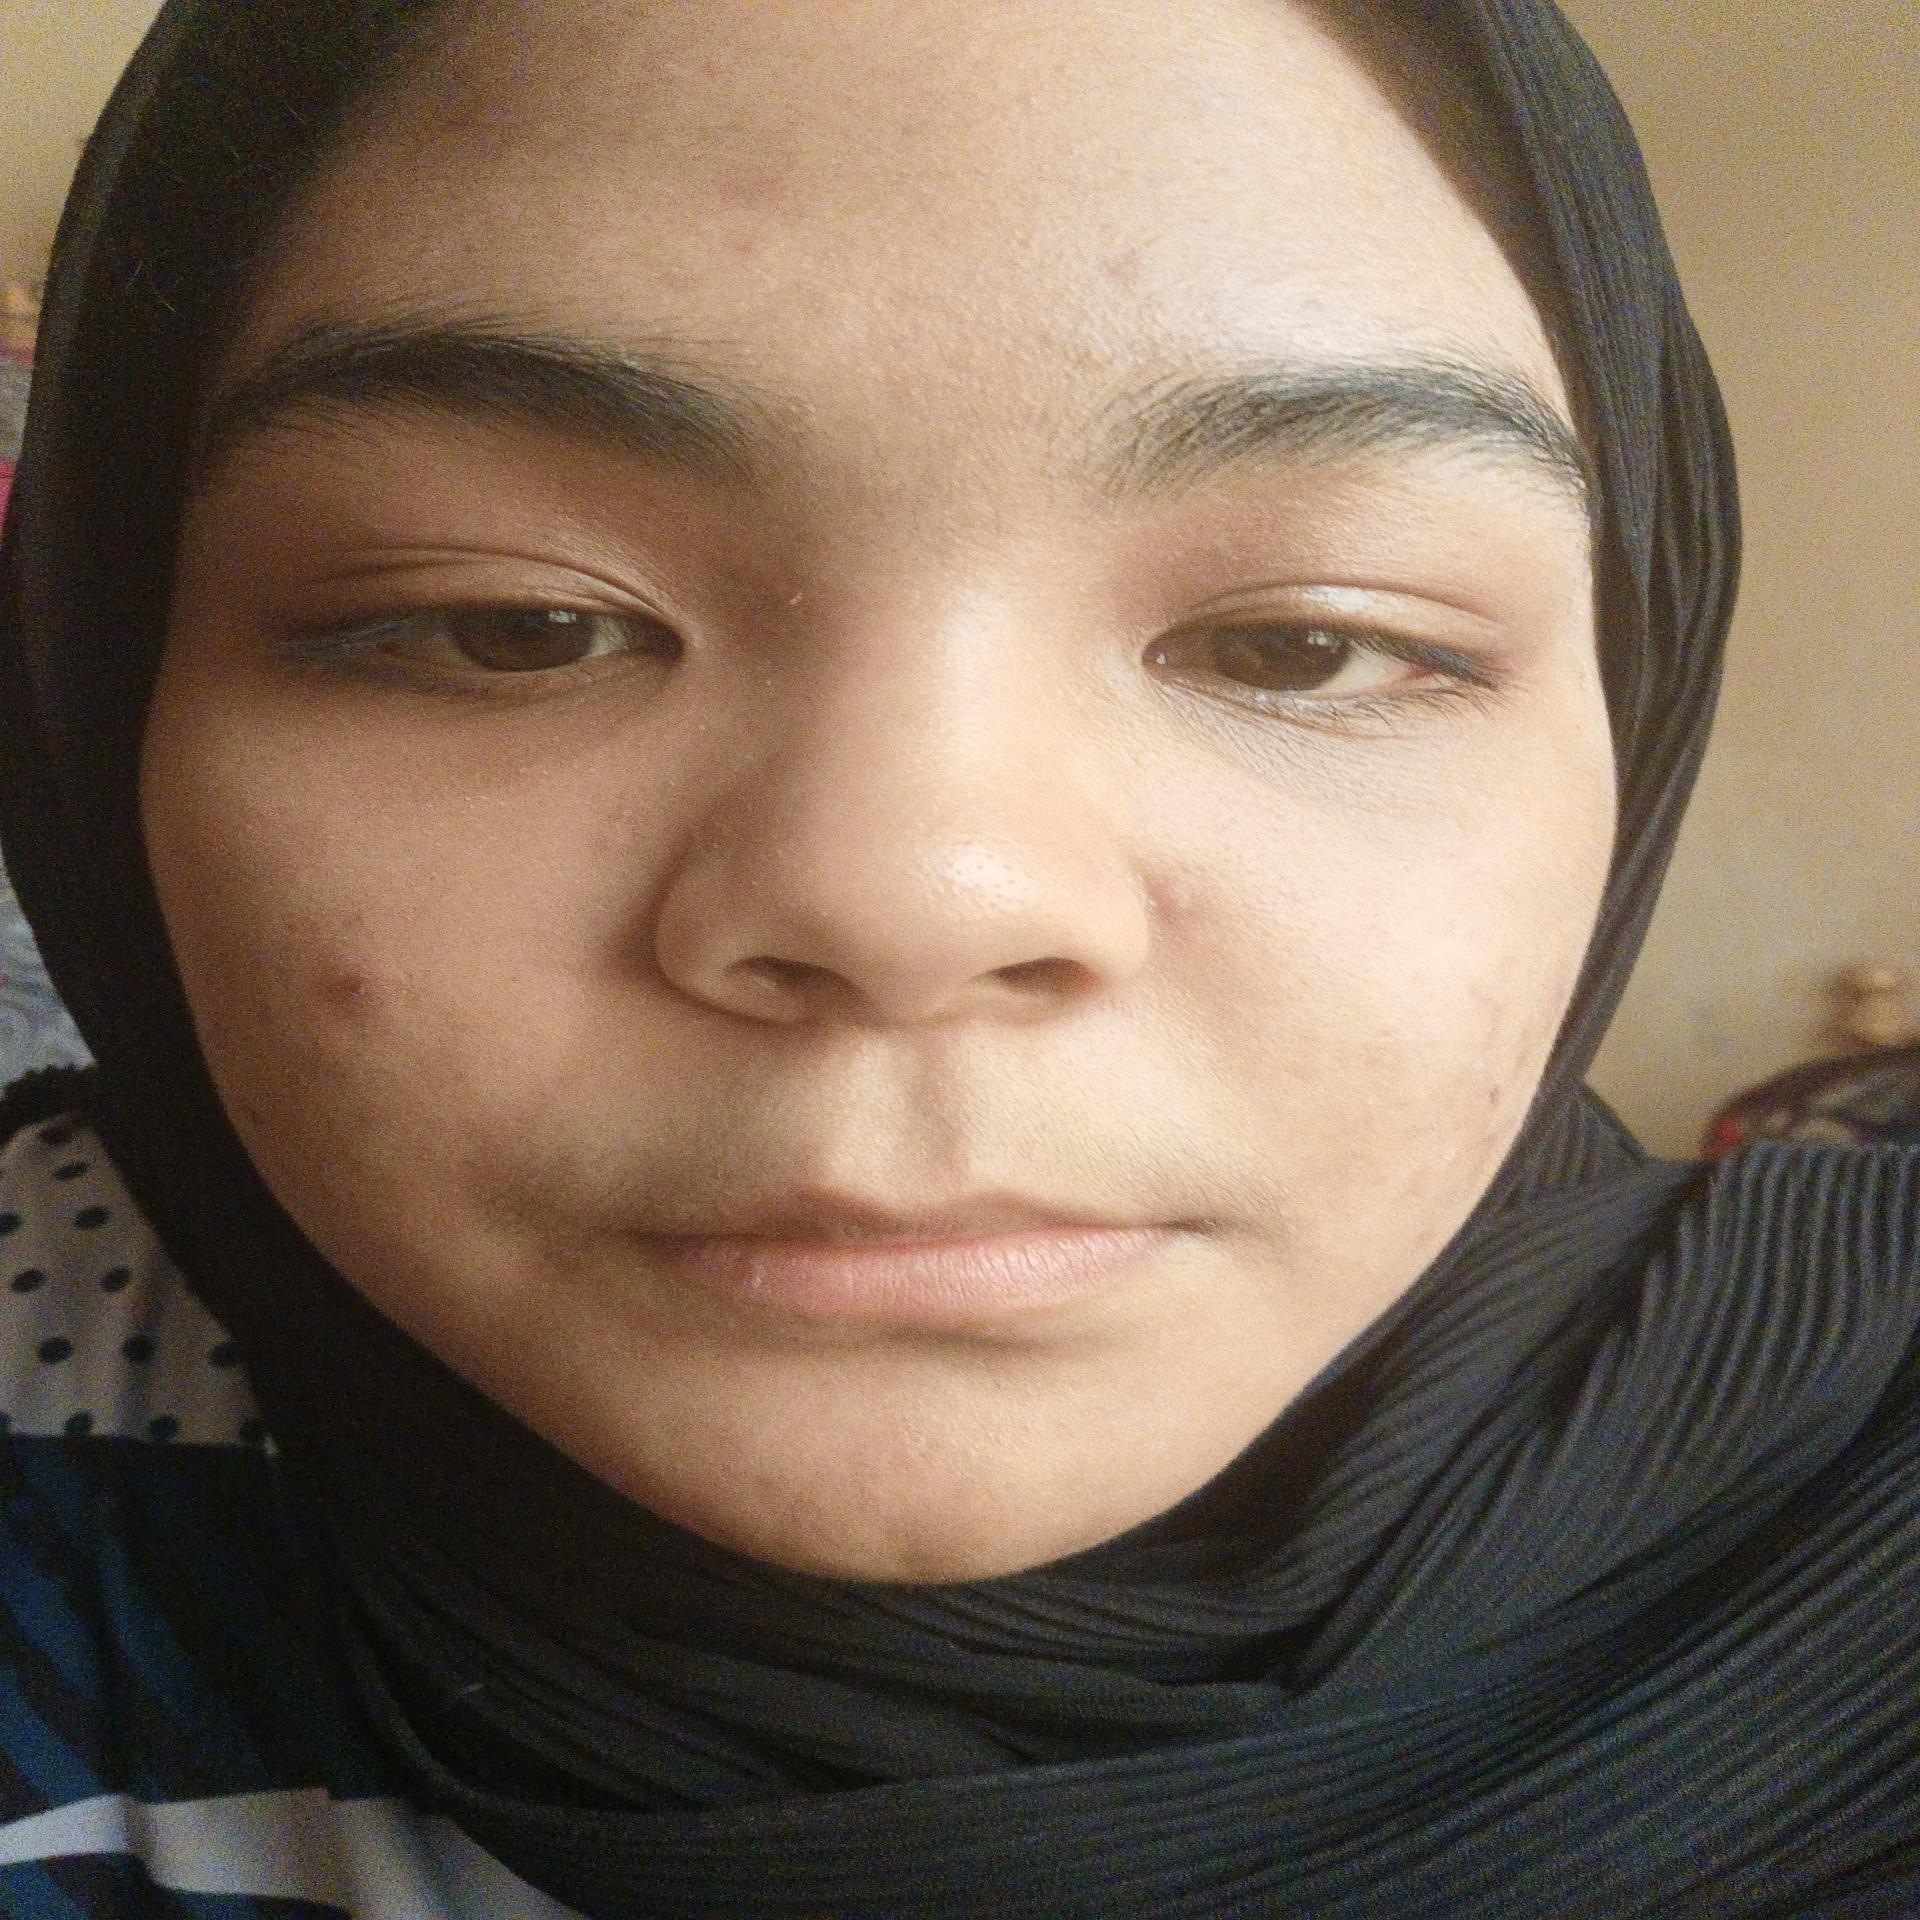Acne: (308, 951, 382, 1018), (1136, 869, 1204, 925)
Blackhead: (1442, 985, 1533, 1122)
